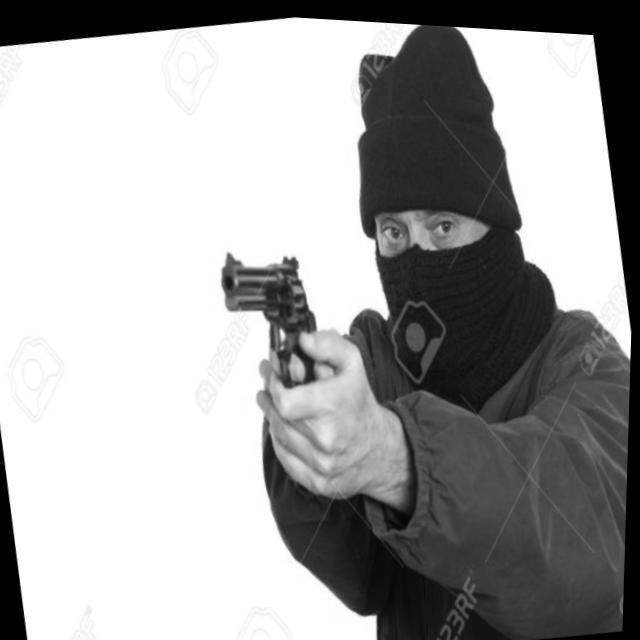weapon: (215, 236, 330, 394)
